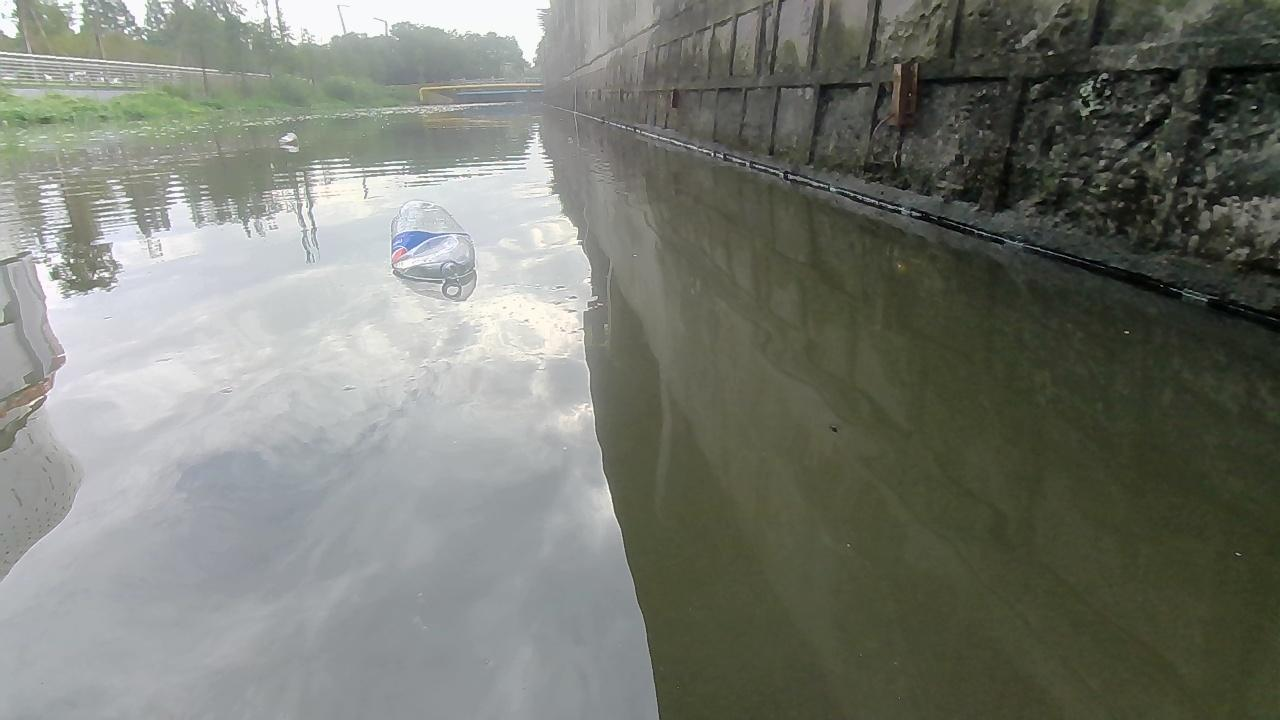bottle: (385, 196, 481, 298), (276, 131, 299, 153)
